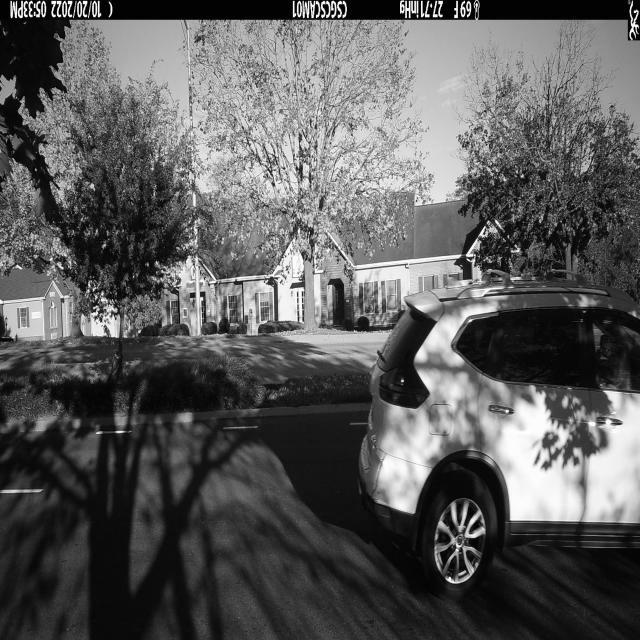SUV: (357, 271, 640, 599)
